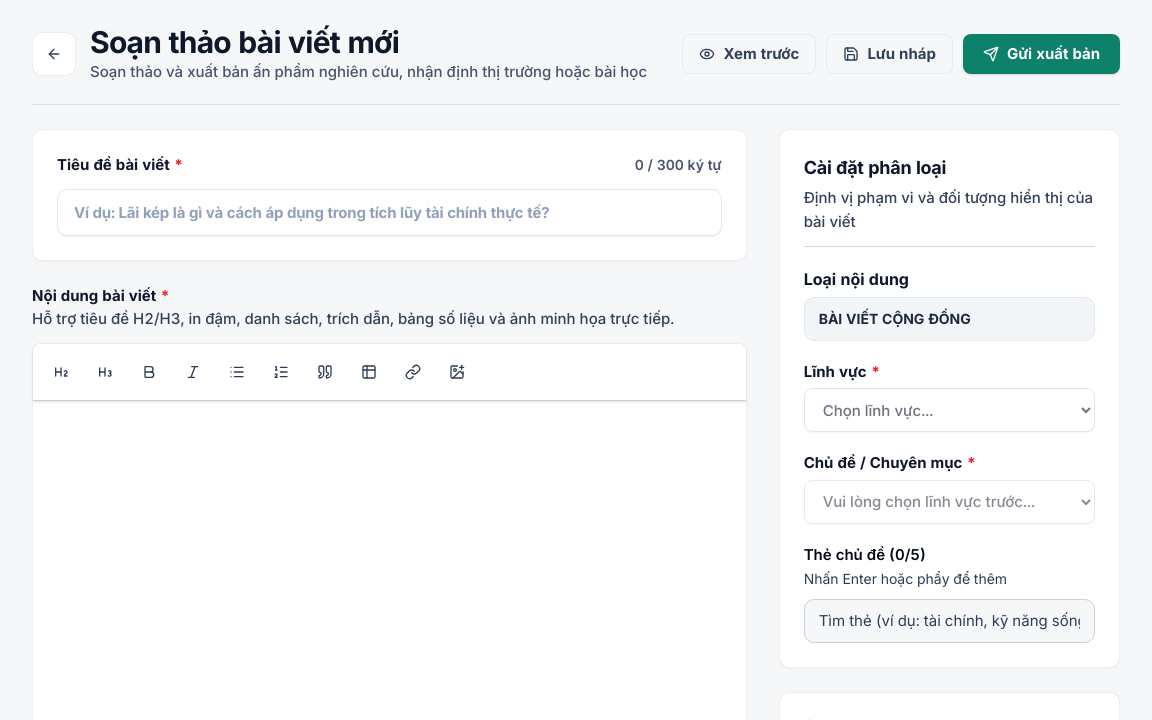
Test: PostStudio Component › toggles live preview mode on button click
Step 1. Click the button "Xem trước" → (749, 54), box [682,34,816,74]
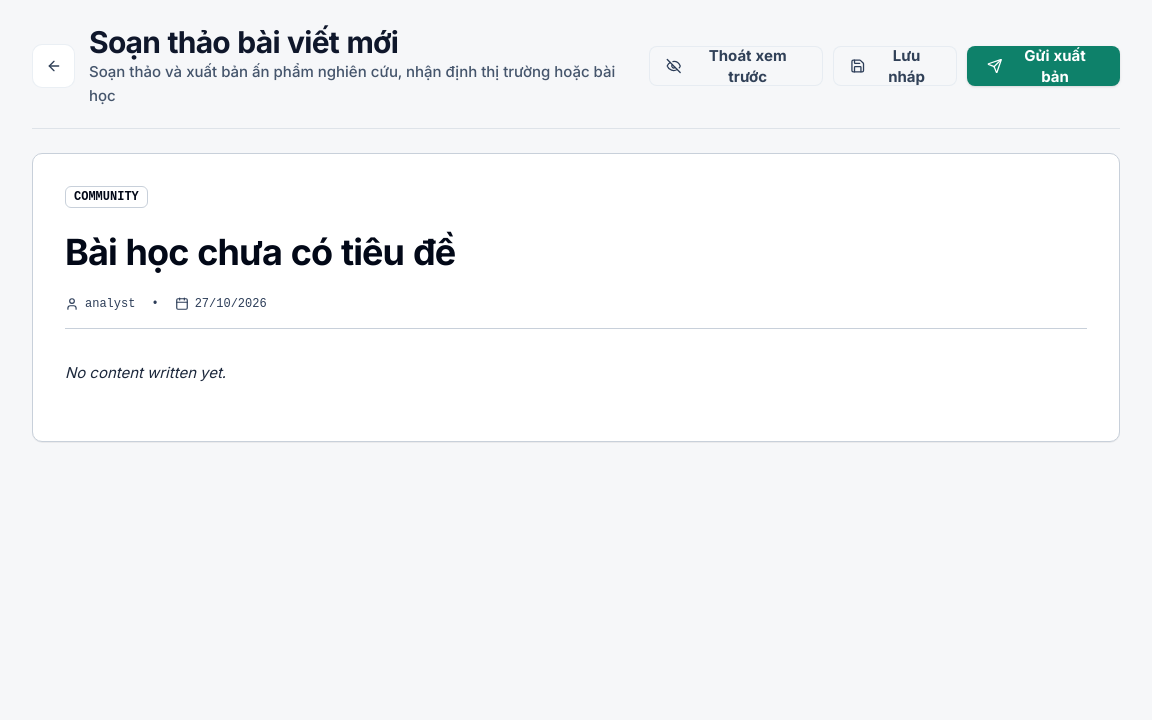
Check: the button "Thoát xem trước" is shown, box [649,46,823,86]
Check: the heading "Bài học chưa có tiêu đề" is shown, box [65,230,455,274]
